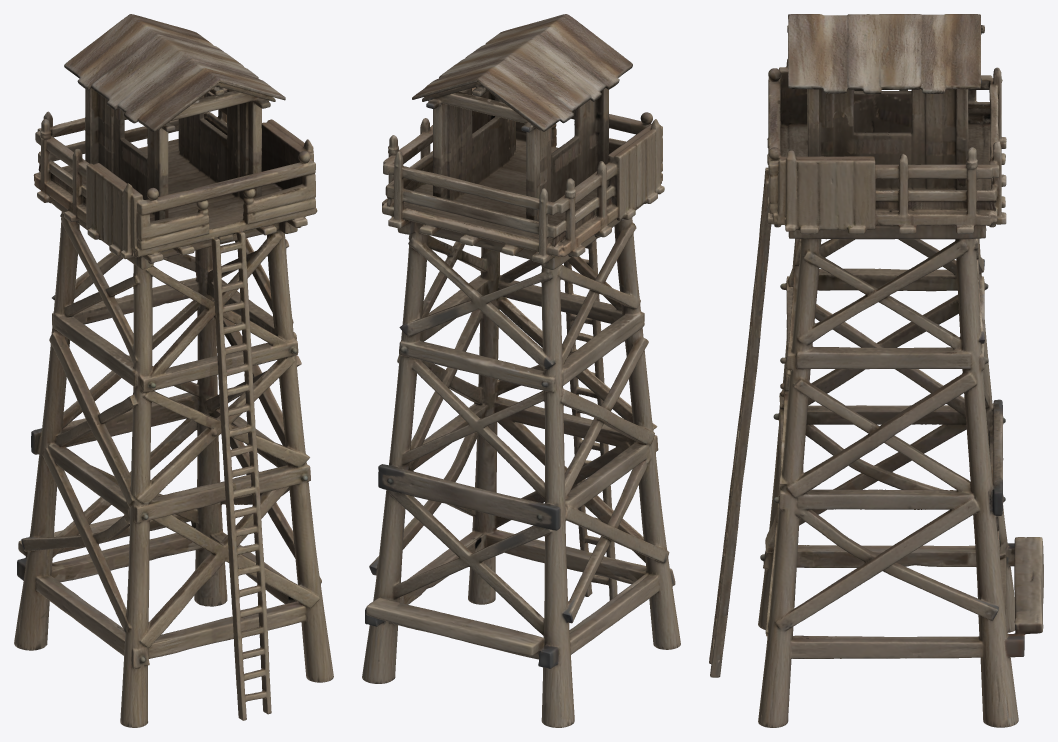
Rendered from wachturm_original.glb.
3 renders of one model, left to right at view 1: azimuth 30°, elevation 25°; view 2: azimuth 150°, elevation 25°; view 3: azimuth 270°, elevation 25°, orthographic. The views are drawn at different scales.
Size of the model in its own units: 0.6782 by 1.9 by 0.875.
Materials: 1 (1 with a texture image).
